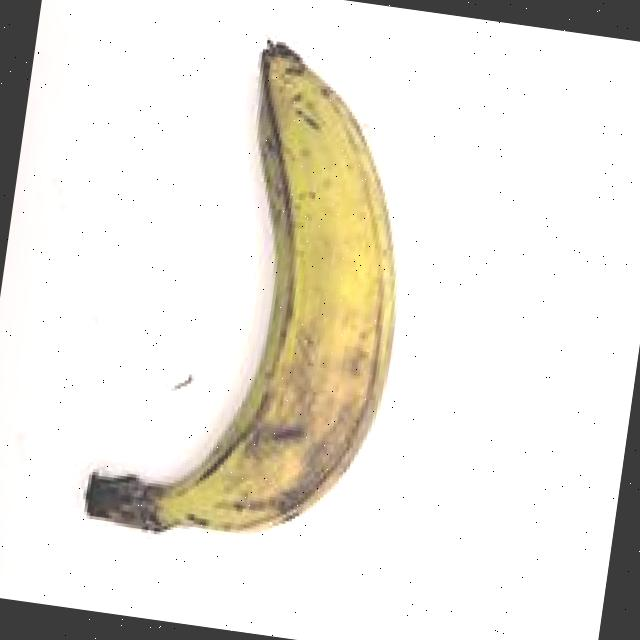Overripe: (58, 2, 455, 584)
